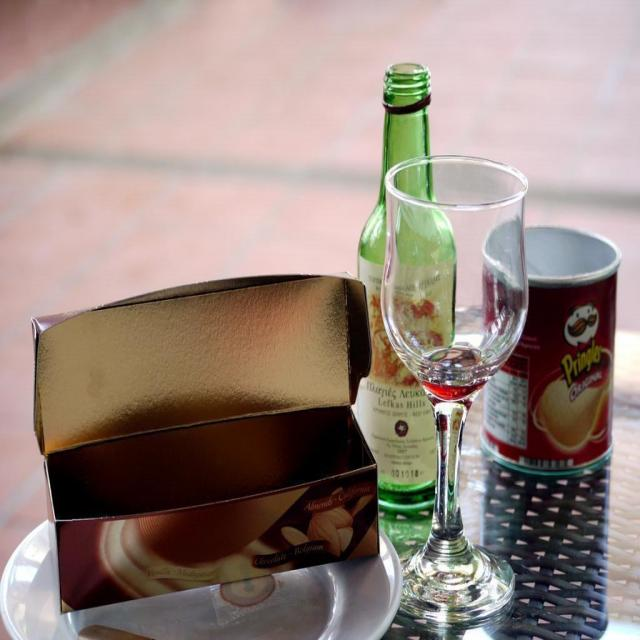bottle-glass: (358, 60, 458, 518)
glass-wine: (380, 157, 530, 626)
